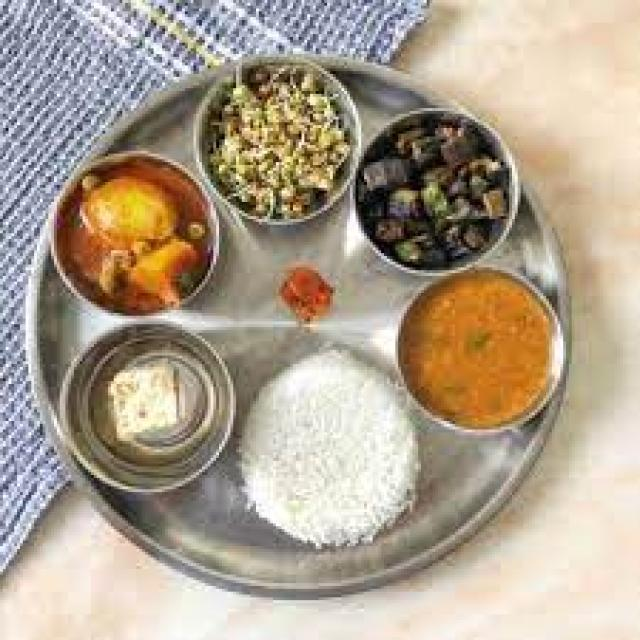dal: (243, 359, 416, 545), (394, 272, 561, 422)
pickle: (270, 263, 344, 322)
rice: (243, 354, 418, 551)
sweet: (91, 351, 229, 458)
veg-fry: (202, 47, 358, 220)
